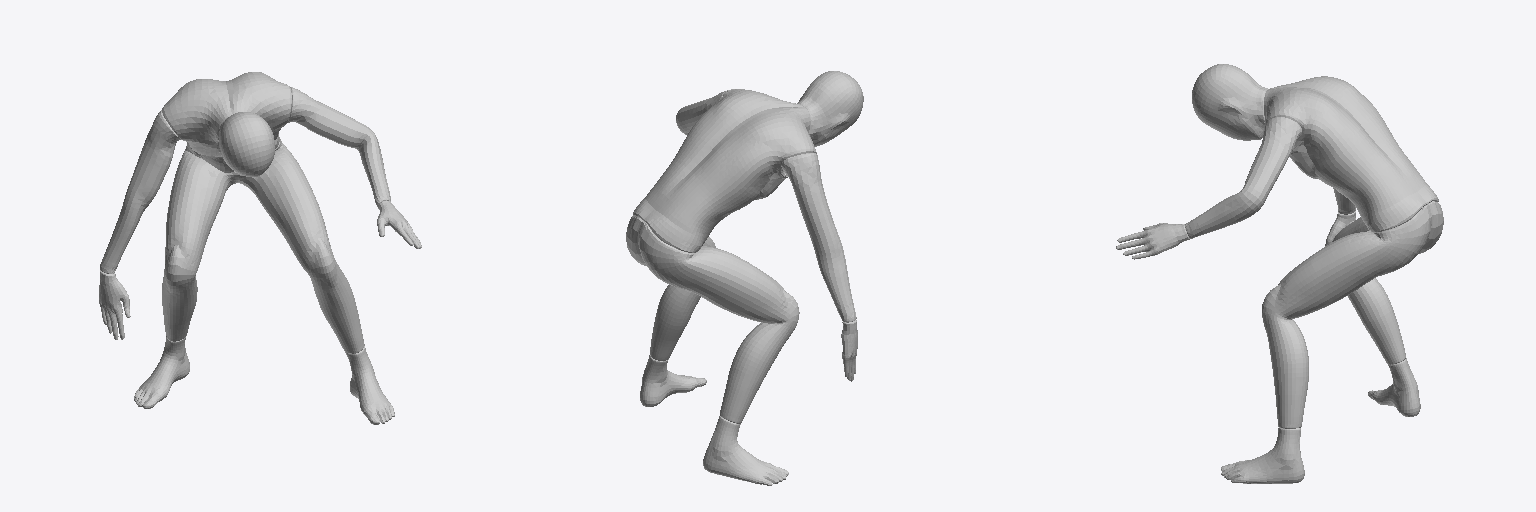
File: standup70.obj
3 renders of one model, left to right at view 1: azimuth 30°, elevation 25°; view 2: azimuth 150°, elevation 25°; view 3: azimuth 270°, elevation 25°, orthographic.
Parts seen in each view (by area): view 1: Ch36; view 2: Ch36; view 3: Ch36.
Boxes of the visible parts, box(x1,y1,x2,y2) form: Ch36: box(99, 72, 421, 424); Ch36: box(626, 71, 863, 485); Ch36: box(1116, 64, 1443, 483).
Size of the model in its own units: 0.8303 by 1.12 by 0.9711.